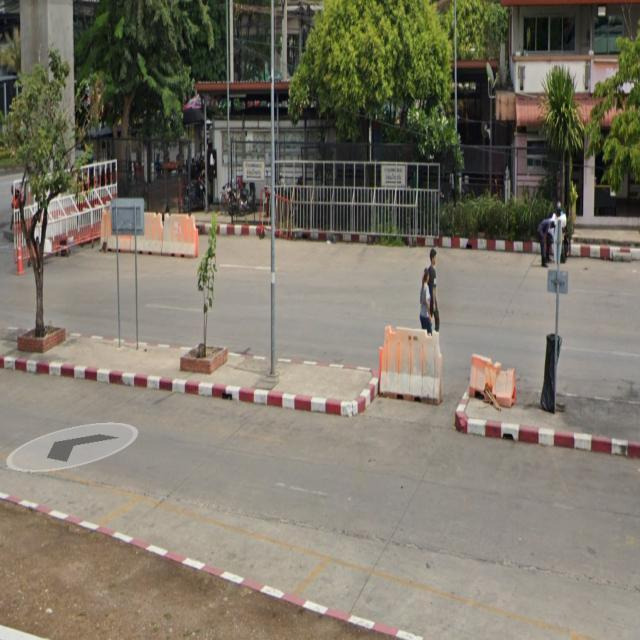fallen_object: (369, 313, 453, 413), (83, 202, 216, 261), (467, 343, 528, 418), (2, 236, 37, 287)
